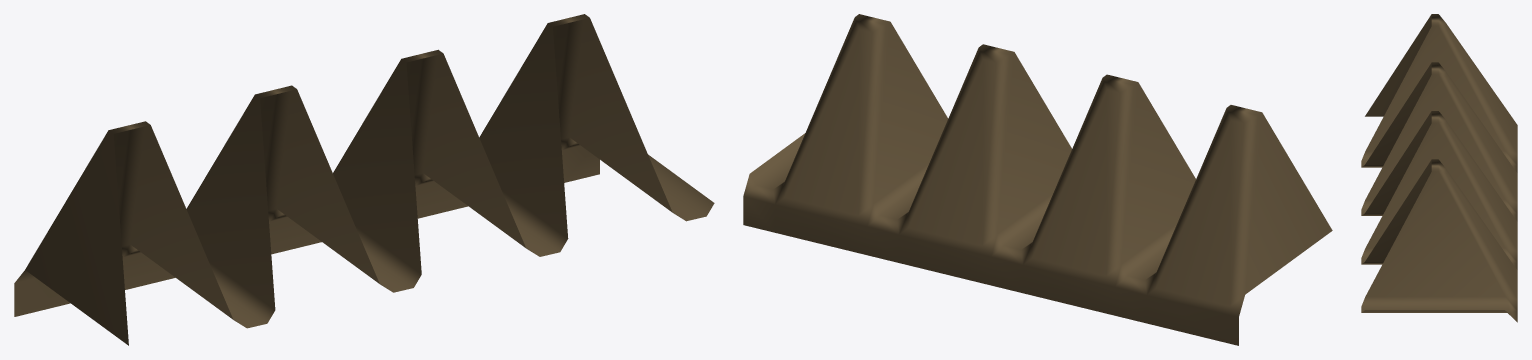
File: tobleroneRoadSpikes_MDL.fbx
The picture shows the model from 3 angles, left to right: view 1: azimuth 30°, elevation 25°; view 2: azimuth 150°, elevation 25°; view 3: azimuth 270°, elevation 25°; orthographic projection. The views are drawn at different scales.
Visible parts, largest first — view 1: toblerone_GEO; view 2: toblerone_GEO; view 3: toblerone_GEO.
Boxes of the visible parts, x1=… form: toblerone_GEO: x1=14, y1=14, x2=714, y2=345; toblerone_GEO: x1=743, y1=14, x2=1332, y2=345; toblerone_GEO: x1=1361, y1=14, x2=1517, y2=322.
Size of the model in its own units: 139 by 50.04 by 47.39.
